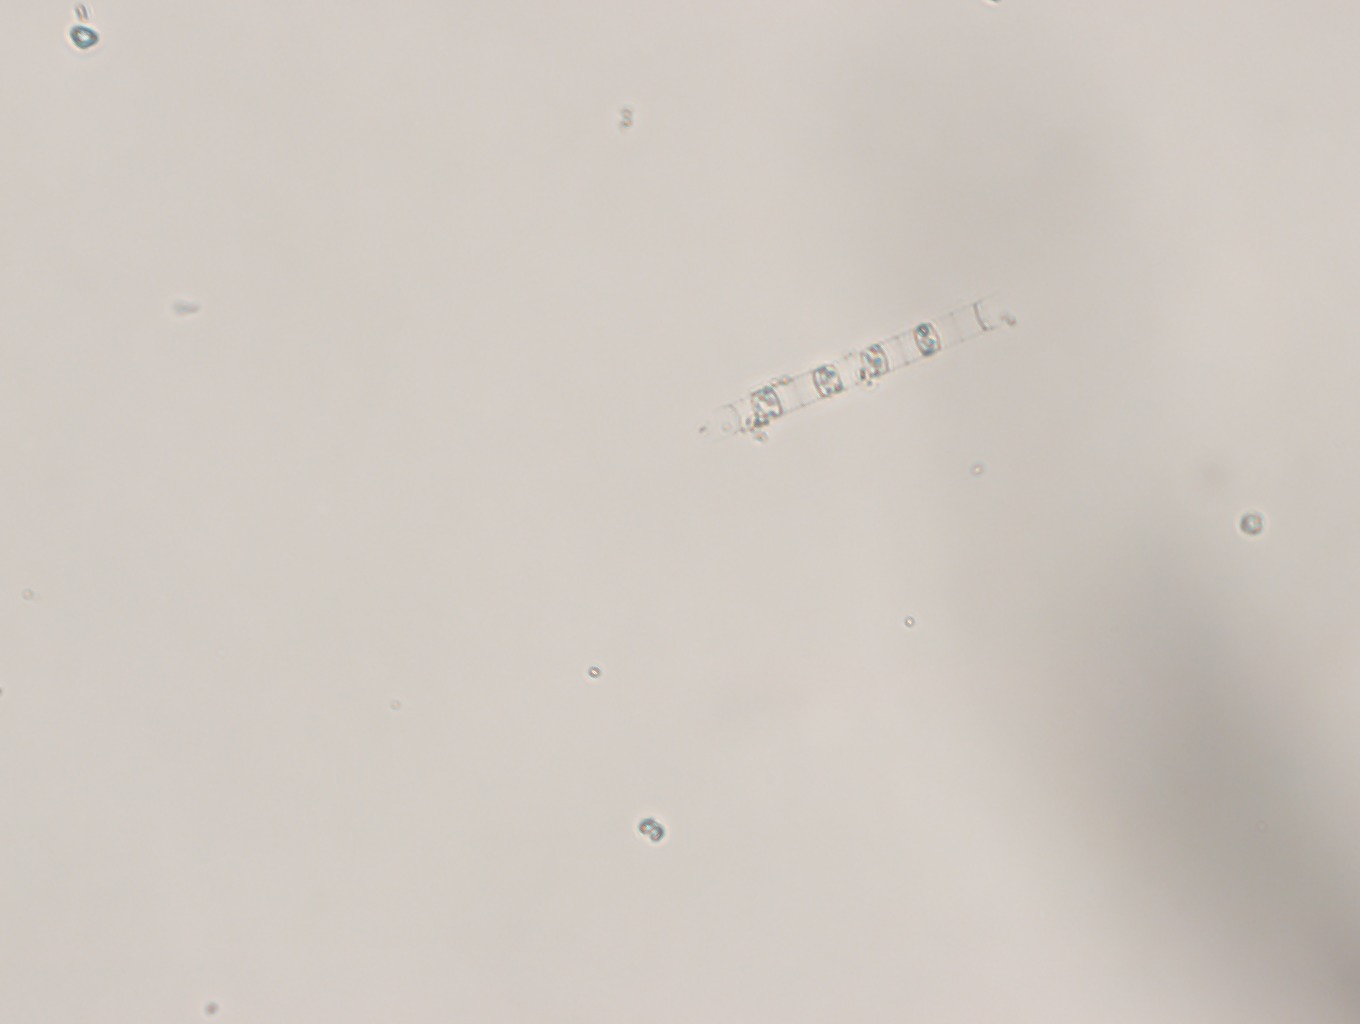skeletonema: (710, 295, 1000, 437)
